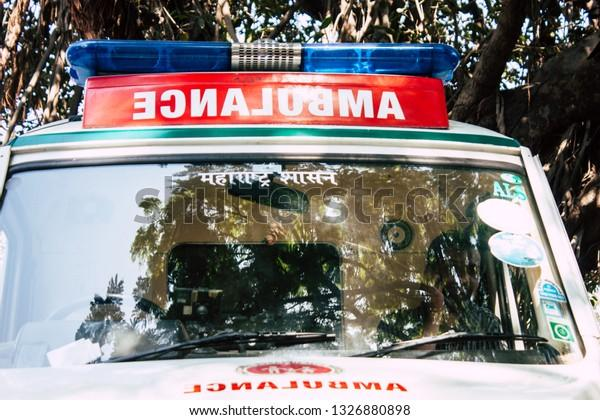ER: (0, 44, 600, 420)
